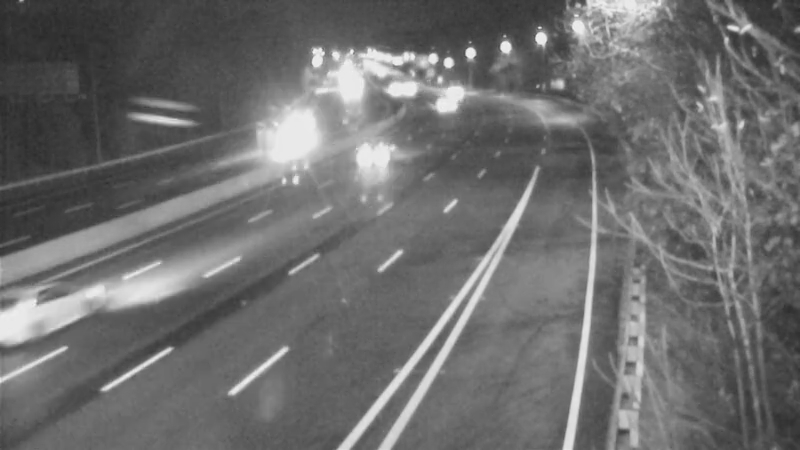vehicle: (1, 255, 104, 365), (336, 116, 416, 196), (243, 111, 323, 191), (387, 63, 437, 113), (363, 62, 413, 112), (433, 66, 483, 116), (420, 83, 470, 133)
